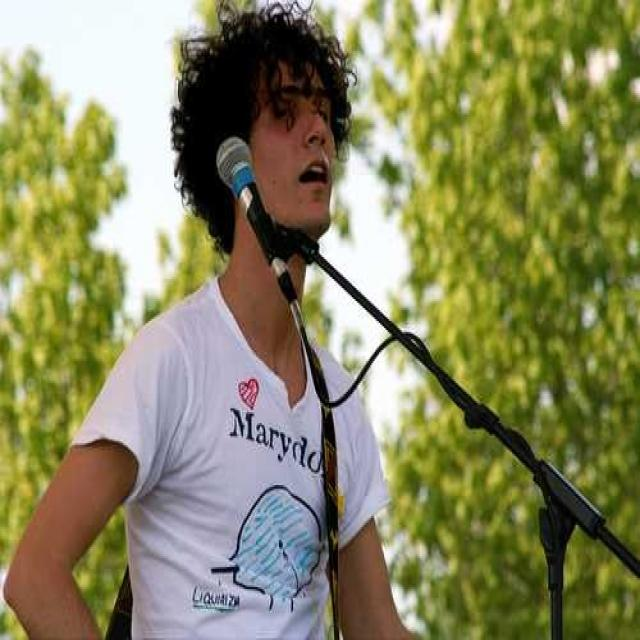microphone: (214, 117, 297, 311)
